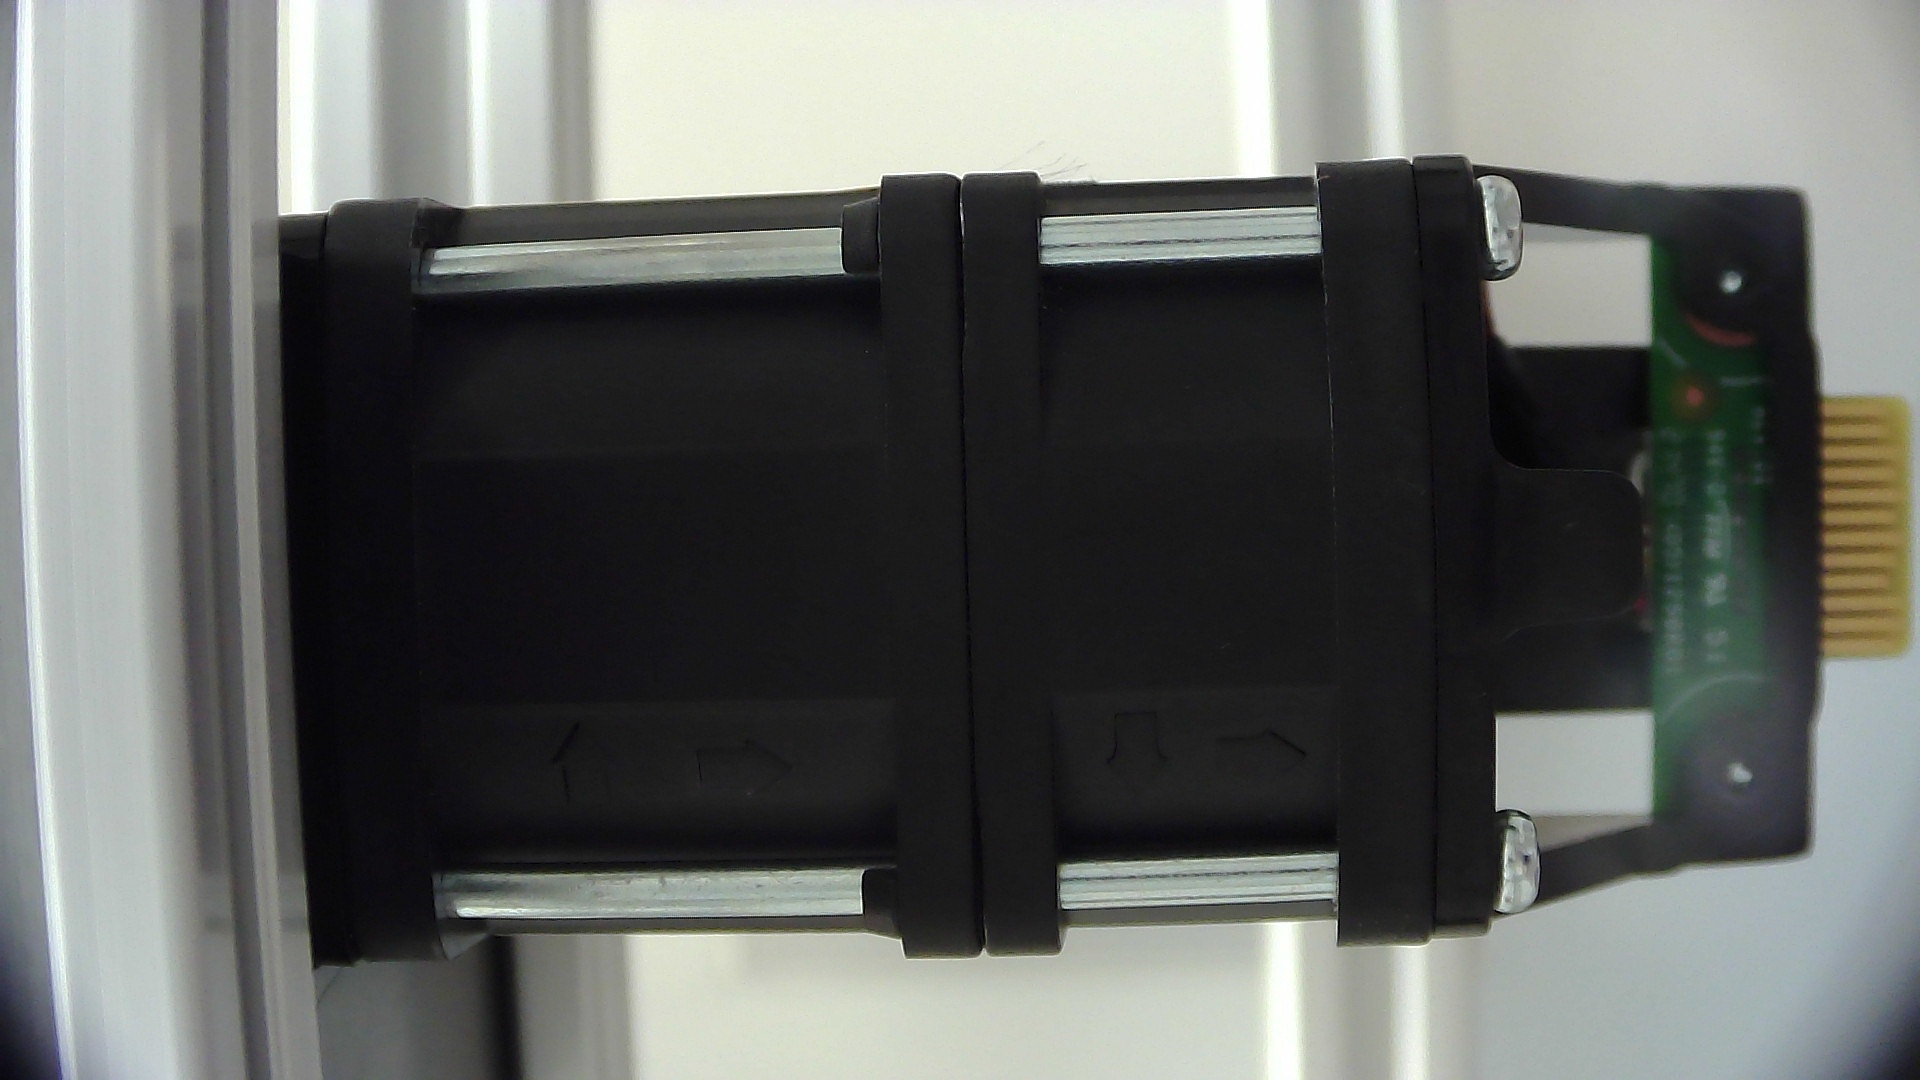2_2: (375, 231, 1356, 918)
2_3: (1408, 113, 1920, 997)
